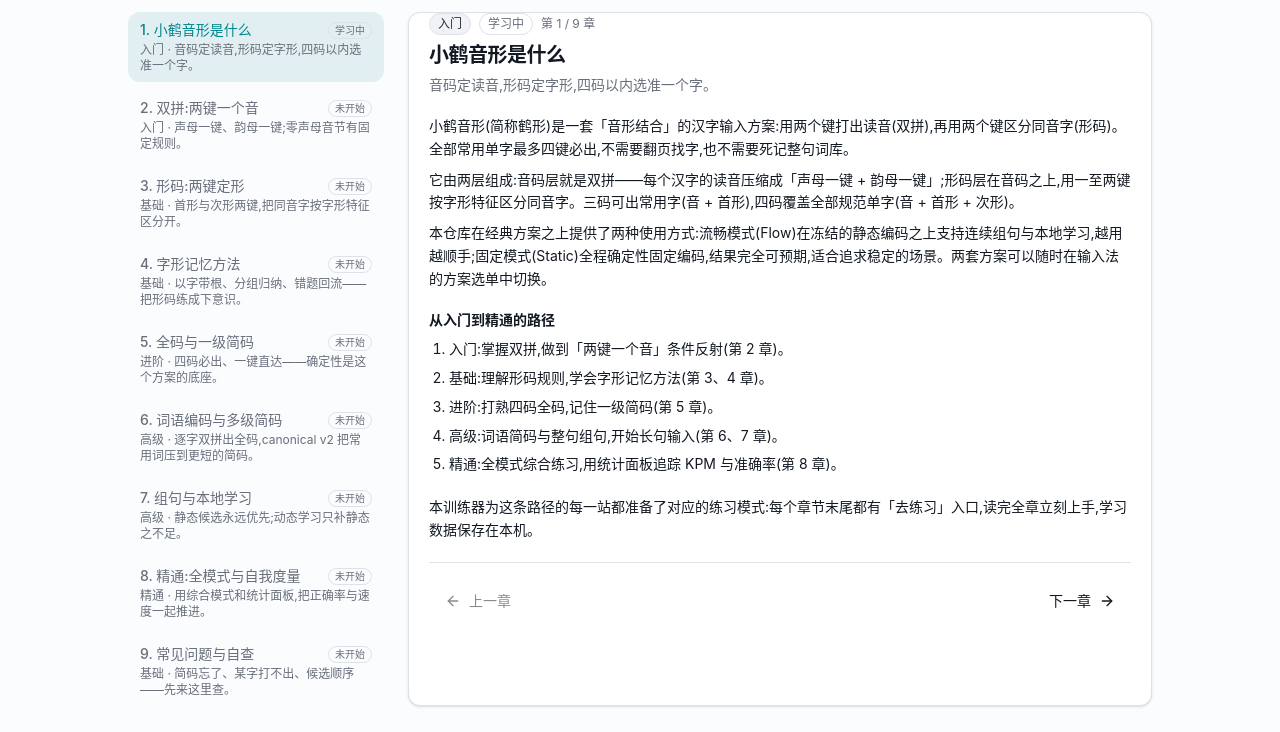
Test case: LearnView › 章节间导航:上一章/下一章
Click the button "下一章" at (1082, 600), box [1033,578,1131,622]
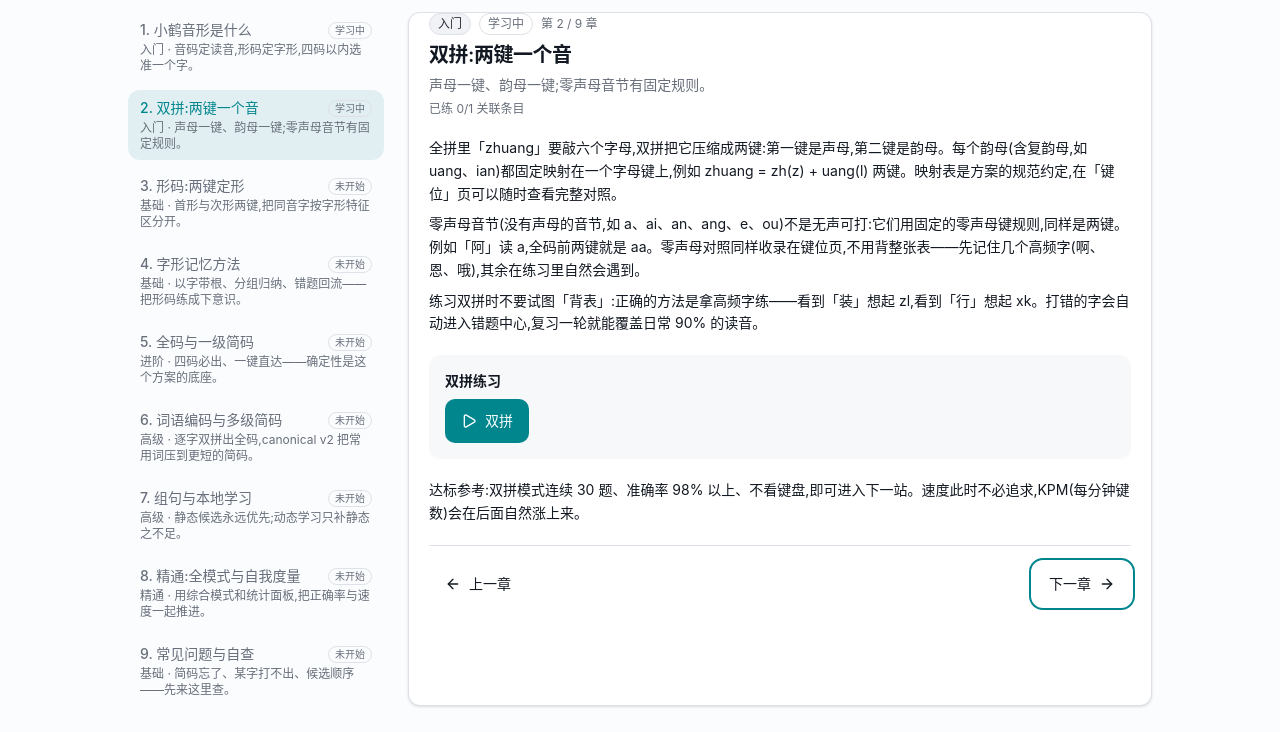
Now the heading "双拼:两键一个音" is shown, box [429,43,571,67]
Click the button "上一章" at (478, 584), box [429,562,527,606]
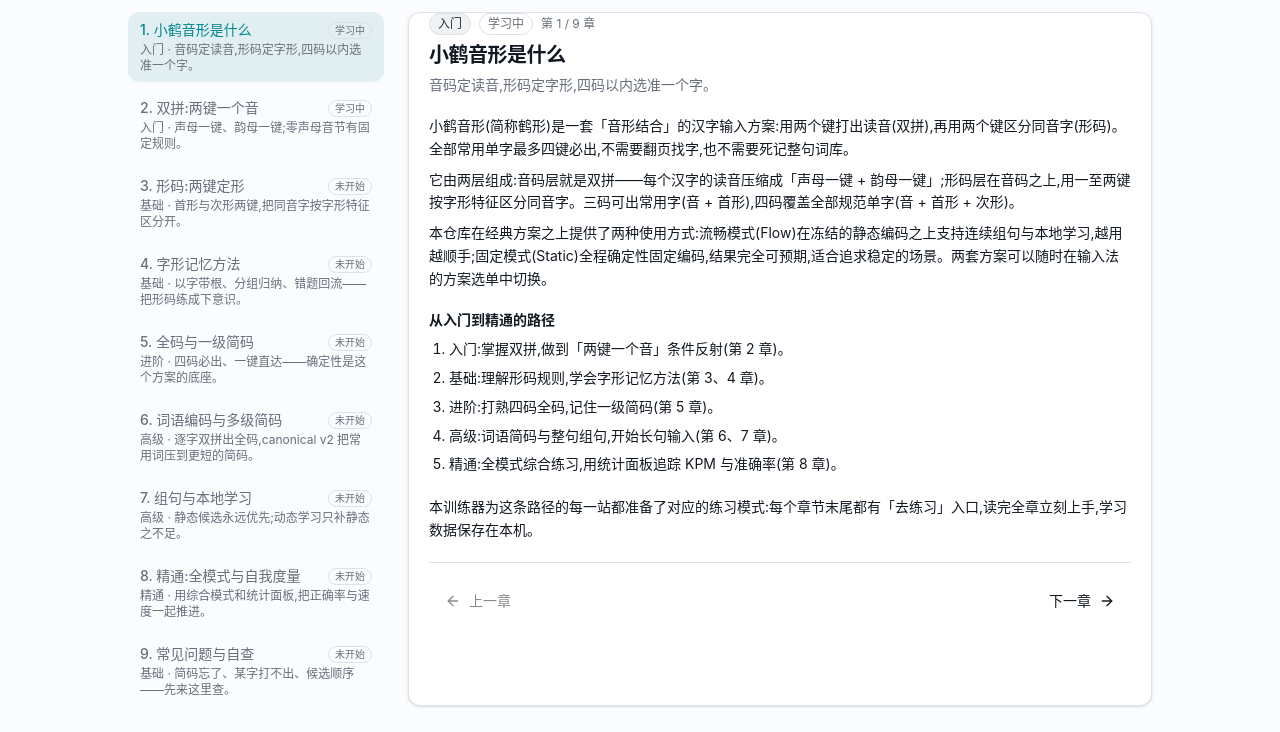
Now the heading "小鹤音形是什么" is shown, box [429,43,566,67]
